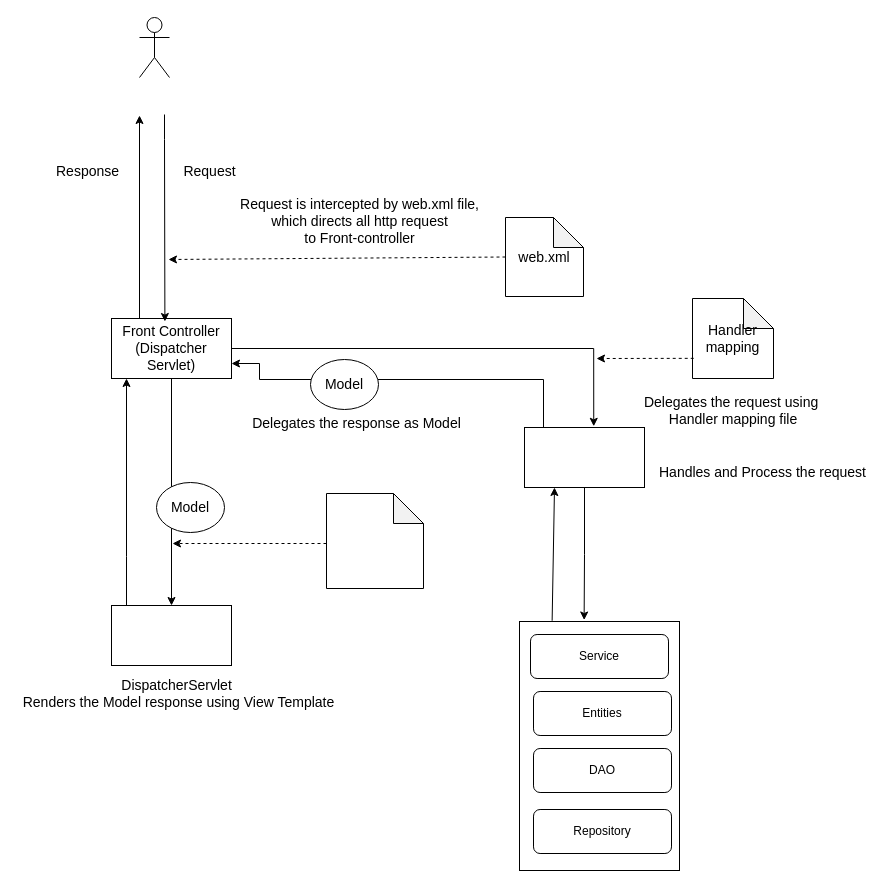
Image size: 887x888. Some labels were removed from this diagram. The centre of each missing label's shape, as x and y in pixels:
"Client" goes at point 154,47.
"Controller (servlets)" goes at point 584,457.
"View Template -JSP -Velocity" goes at point 171,635.
"View-Resolver" goes at point 375,540.
